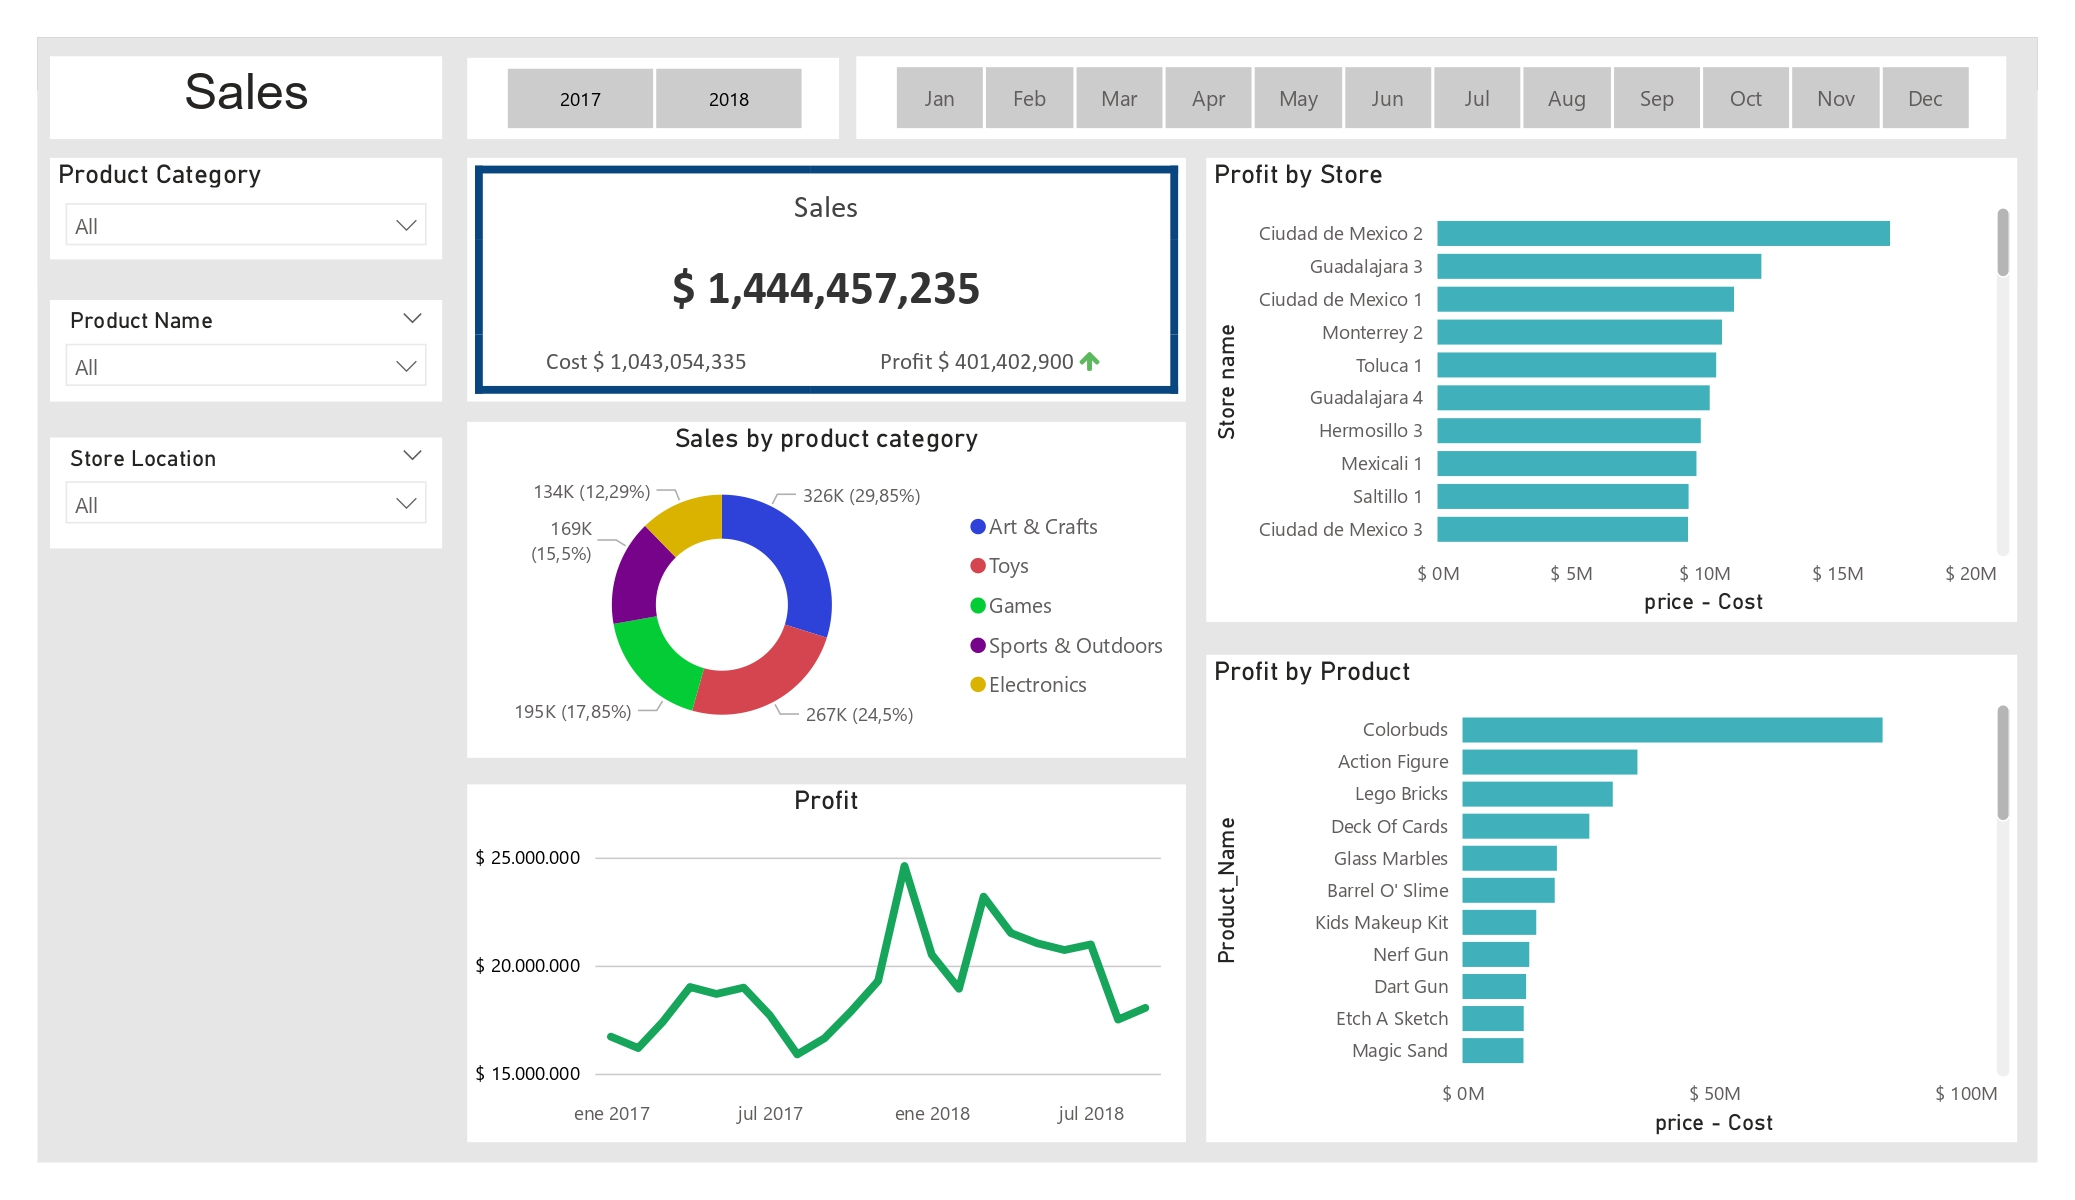

What the dashboard file says about the page in this screenshot:
{"tool":"powerbi","page":{"name":"Sales","canvas":[1280,720],"ordinal":0},"visuals":[{"type":"slicer","fields":{"Values":["sales.Date.Variation.Date Hierarchy.Year"]},"box":[274.9,13.3,237.6,51.4],"z":0},{"type":"slicer","fields":{"Values":["sales.Short Month"]},"box":[524,12.4,736,52.3],"z":1000},{"type":"slicer","title":"Product Category","fields":{"Values":["products.Product_Category"]},"box":[8,77.1,250.9,64.7],"z":2000},{"type":"slicer","fields":{"Values":["products.Product_Name"]},"box":[8,168.5,250.9,64.7],"z":3000},{"type":"slicer","fields":{"Values":["stores.Store_Location"]},"box":[8,256.3,250.9,70.9],"z":4000},{"type":"BBED0A4D4D8D44CE93CF2DAFADEE466C","fields":{"target1":["Sum(sales.Total Cost)"],"actual":["Sum(sales.Total Price)"],"target2":["sales.price - Cost"]},"box":[274.9,77.1,460.2,156.1],"z":5000},{"type":"donutChart","title":"Sales by product category","fields":{"Category":["products.Product_Category"],"Y":["Sum(sales.Units)"]},"box":[274.9,245.6,460.2,215.5],"z":6000},{"type":"lineChart","title":"Profit","fields":{"Category":["sales.Date.Variation.Date Hierarchy.Year","sales.Date.Variation.Date Hierarchy.Quarter","sales.Date.Variation.Date Hierarchy.Month"],"Y":["sales.price - Cost"]},"box":[274.9,477.9,460.2,228.8],"z":7000},{"type":"clusteredBarChart","title":"Profit by Product","fields":{"Category":["products.Product_Name"],"Y":["sales.price - Cost"]},"box":[748.4,395.5,518.7,311.2],"z":8000},{"type":"clusteredBarChart","title":"Profit by Store","fields":{"Category":["stores.Name"],"Y":["sales.price - Cost"]},"box":[748.4,77.1,518.7,297],"z":9000},{"type":"textbox","box":[8,12.4,250.9,52.3],"z":10000}]}

Visuals, with their boxes in screenshot pixels (x1, y1, x2, y2):
slicer - sales.Date.Variation.Date Hierarchy.Year: <box>467,58,838,139</box>
slicer - sales.Short Month: <box>856,57,2006,139</box>
"Product Category" slicer: <box>50,158,442,259</box>
slicer - products.Product_Name: <box>50,301,442,402</box>
slicer - stores.Store_Location: <box>50,438,442,549</box>
BBED0A4D4D8D44CE93CF2DAFADEE466C - Sum(sales.Total Cost) x Sum(sales.Total Price): <box>467,158,1186,402</box>
"Sales by product category" donutChart: <box>467,421,1186,758</box>
"Profit" lineChart: <box>467,784,1186,1142</box>
"Profit by Product" clusteredBarChart: <box>1207,655,2017,1142</box>
"Profit by Store" clusteredBarChart: <box>1207,158,2017,622</box>
textbox: <box>50,57,442,139</box>
